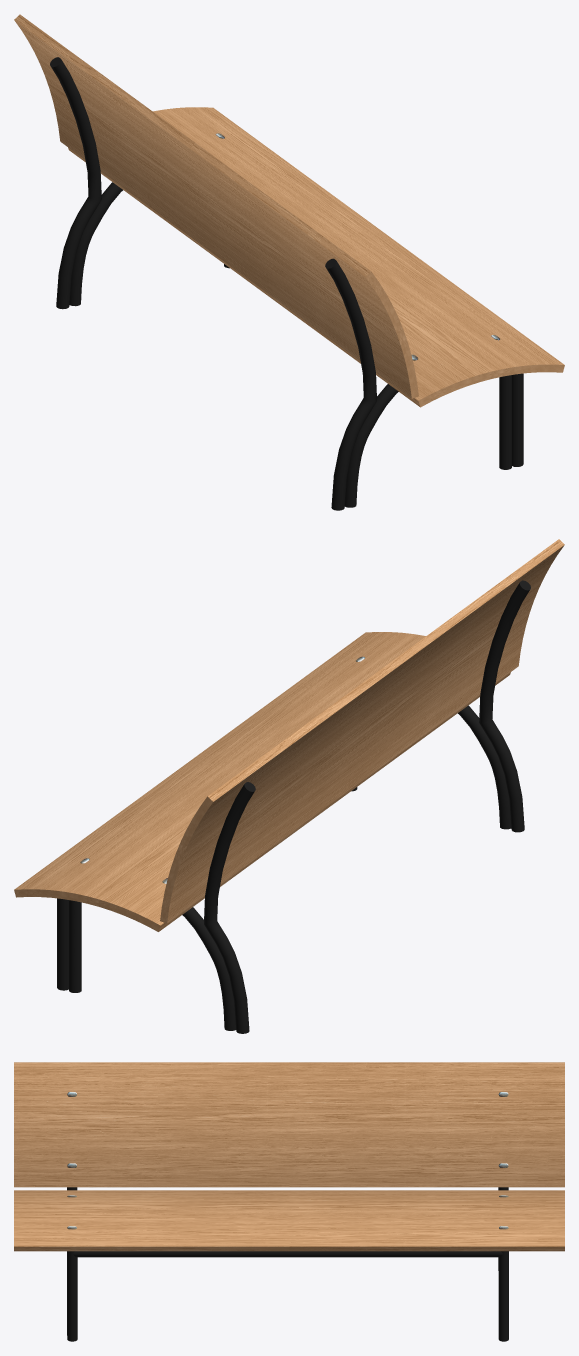
Rendered from Banc.dae.
3 renders of one model, top to bottom at view 1: azimuth 30°, elevation 25°; view 2: azimuth 150°, elevation 25°; view 3: azimuth 270°, elevation 25°, orthographic. The views are drawn at different scales.
Visible parts, largest first — view 1: Banc; view 2: Banc; view 3: Banc.
Part boxes in pixels (box(x1,y1,x2,y2)): Banc: box(14, 14, 564, 510); Banc: box(14, 539, 564, 1033); Banc: box(14, 1062, 564, 1341).
Bounding box in the file's own units: 56.3 × 170 × 70.58.
3 materials, 3 textured.
